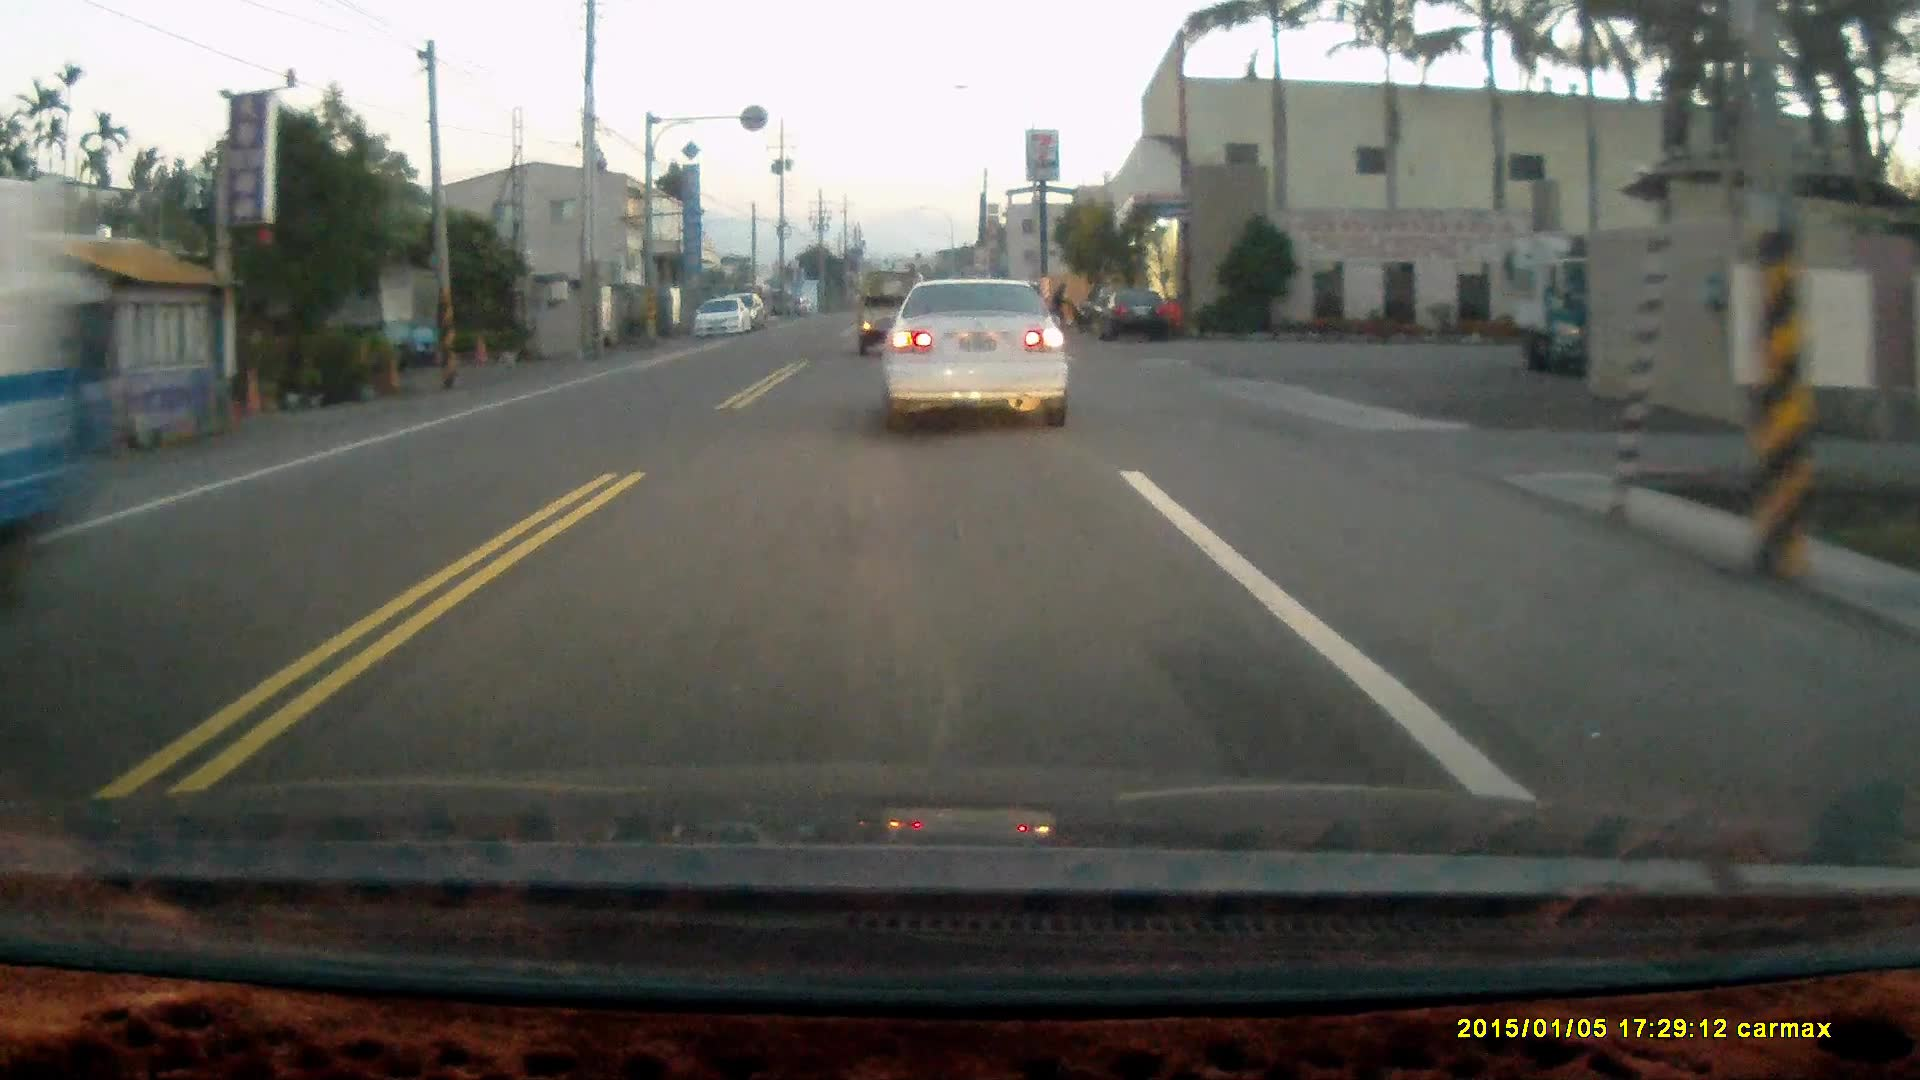rider: (1039, 278, 1085, 330)
vehicle: (888, 277, 1076, 436), (1504, 233, 1663, 382), (859, 274, 932, 363), (1093, 283, 1169, 343), (690, 292, 755, 342)
